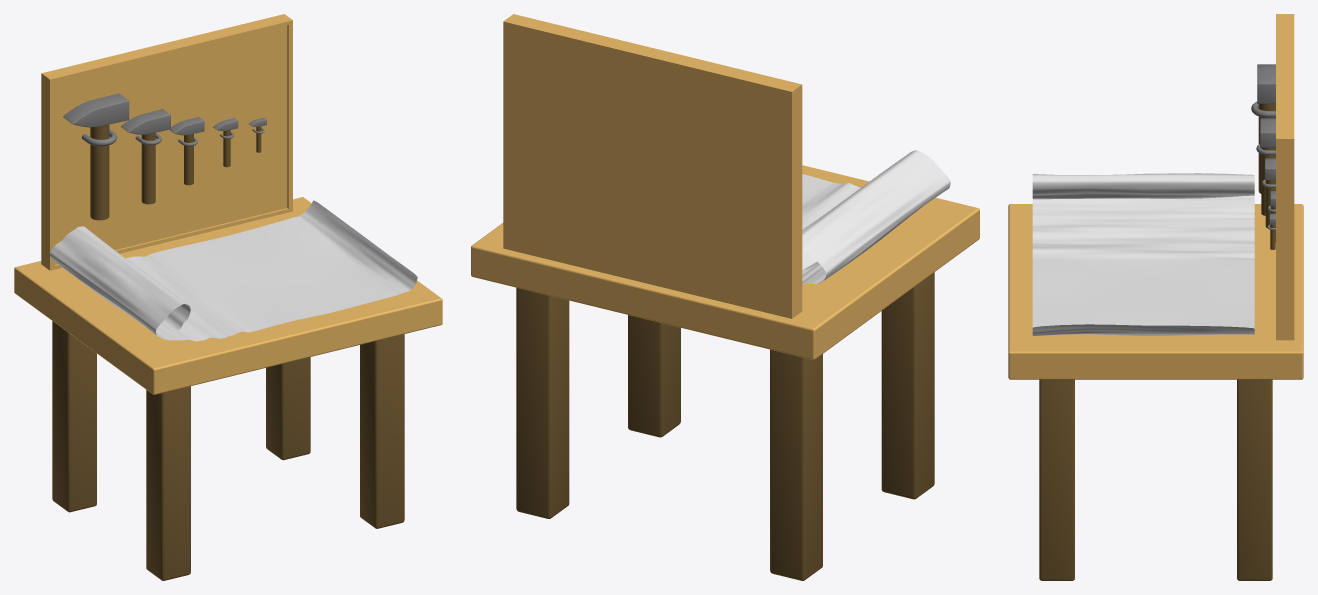
The model's file is WorkBench.Export.fbx.
The picture shows the model from 3 angles, left to right: view 1: azimuth 30°, elevation 25°; view 2: azimuth 150°, elevation 25°; view 3: azimuth 270°, elevation 25°; orthographic projection. The views are drawn at different scales.
Parts seen in each view (by area): view 1: Back_Board, Legs, Plane, Desk, Hammer_Handle, Hammer_Steel, Hammer_Handle.001, Hammer_Steel.001; view 2: Back_Board, Legs, Desk, Plane; view 3: Plane, Desk, Legs, Back_Board, Hammer_Steel, Hammer_Steel.001.
Part boxes in pixels (bbox=[...]): Back_Board: bbox=[41, 14, 292, 270]; Legs: bbox=[52, 321, 404, 580]; Plane: bbox=[50, 200, 417, 341]; Desk: bbox=[14, 197, 442, 394]; Hammer_Handle: bbox=[90, 124, 109, 220]; Hammer_Steel: bbox=[63, 93, 129, 127]; Hammer_Handle.001: bbox=[141, 133, 155, 204]; Hammer_Steel.001: bbox=[121, 109, 170, 134]; Back_Board: bbox=[503, 14, 802, 318]; Legs: bbox=[516, 272, 934, 580]; Desk: bbox=[471, 165, 979, 359]; Plane: bbox=[802, 150, 950, 284]; Plane: bbox=[1032, 173, 1254, 335]; Desk: bbox=[1008, 204, 1303, 379]; Legs: bbox=[1039, 379, 1272, 580]; Back_Board: bbox=[1276, 14, 1294, 340]; Hammer_Steel: bbox=[1257, 64, 1275, 104]; Hammer_Steel.001: bbox=[1260, 118, 1275, 147].
Bounding box in the file's own units: 317 × 440 × 266.
